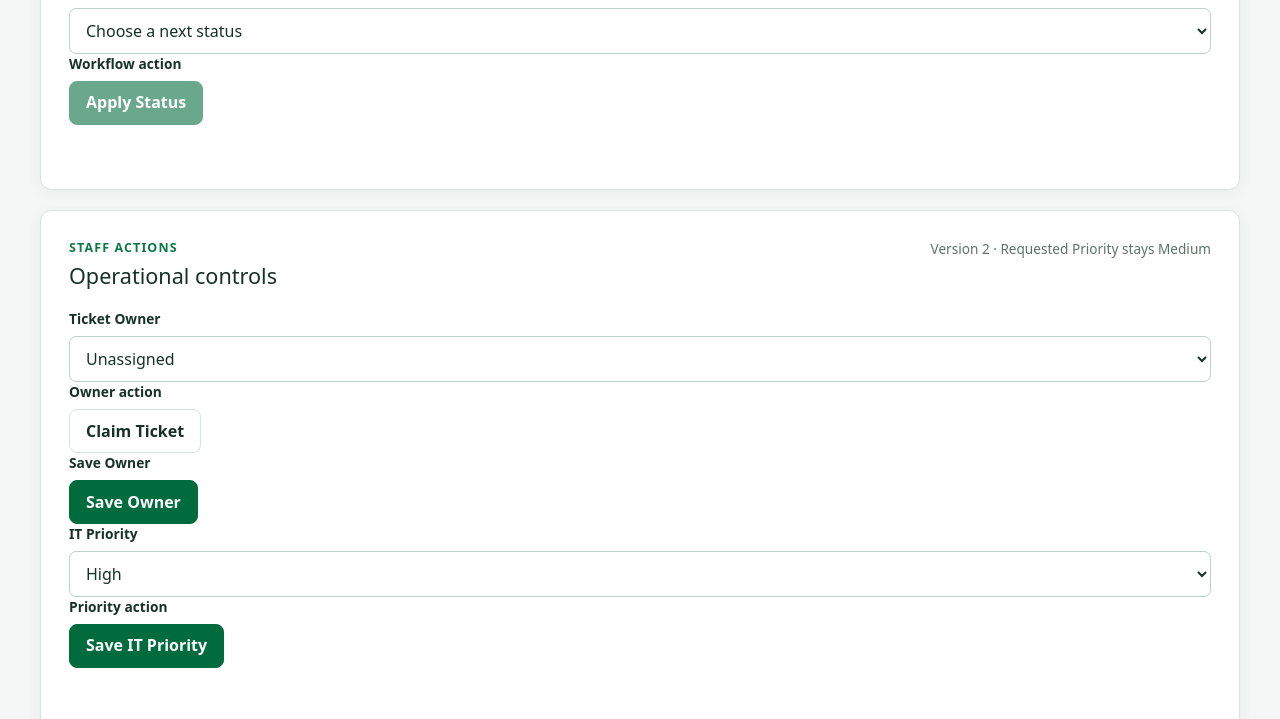
Scenario: Staff Ticket Detail page › lets IT Staff save Owner and IT Priority with the current version
(page scrolled)
Select "Jules IT Staff · IT Staff" in the dropdown labelled "Ticket Owner" at point(640, 359), box [69,336,1211,382]
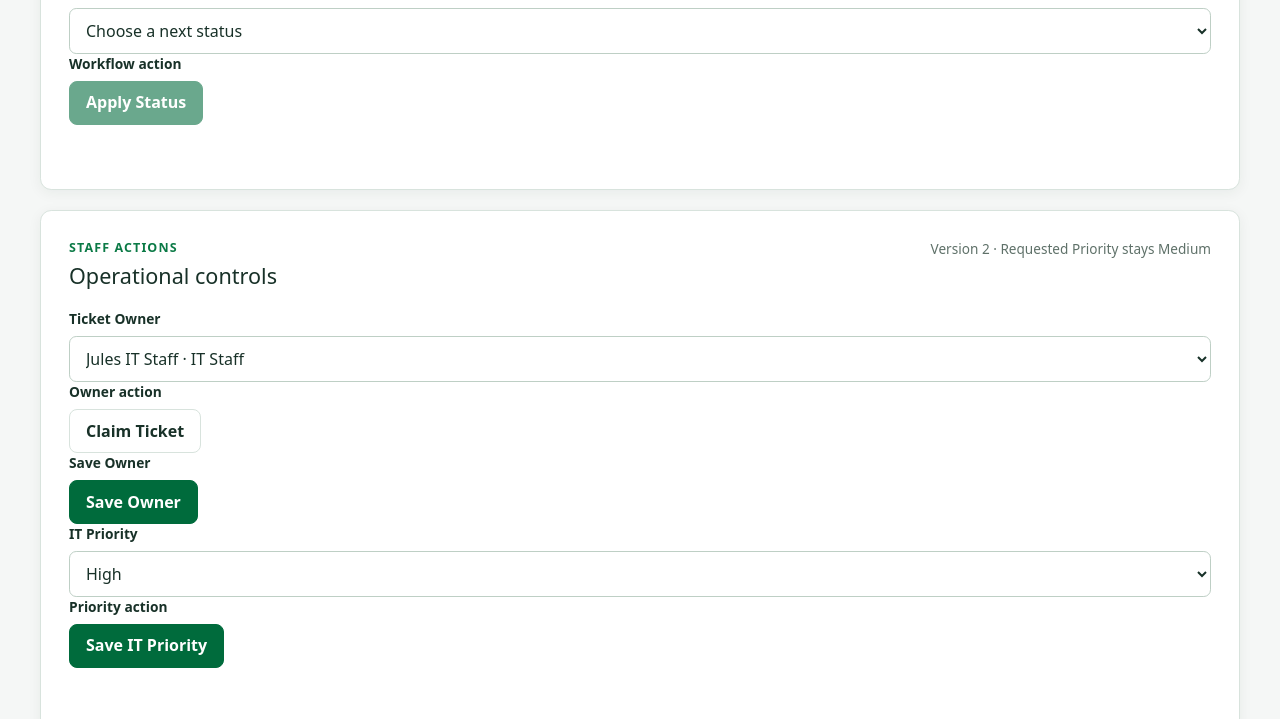
Click the button "Save Owner" at point(133, 502), box [69,480,198,524]
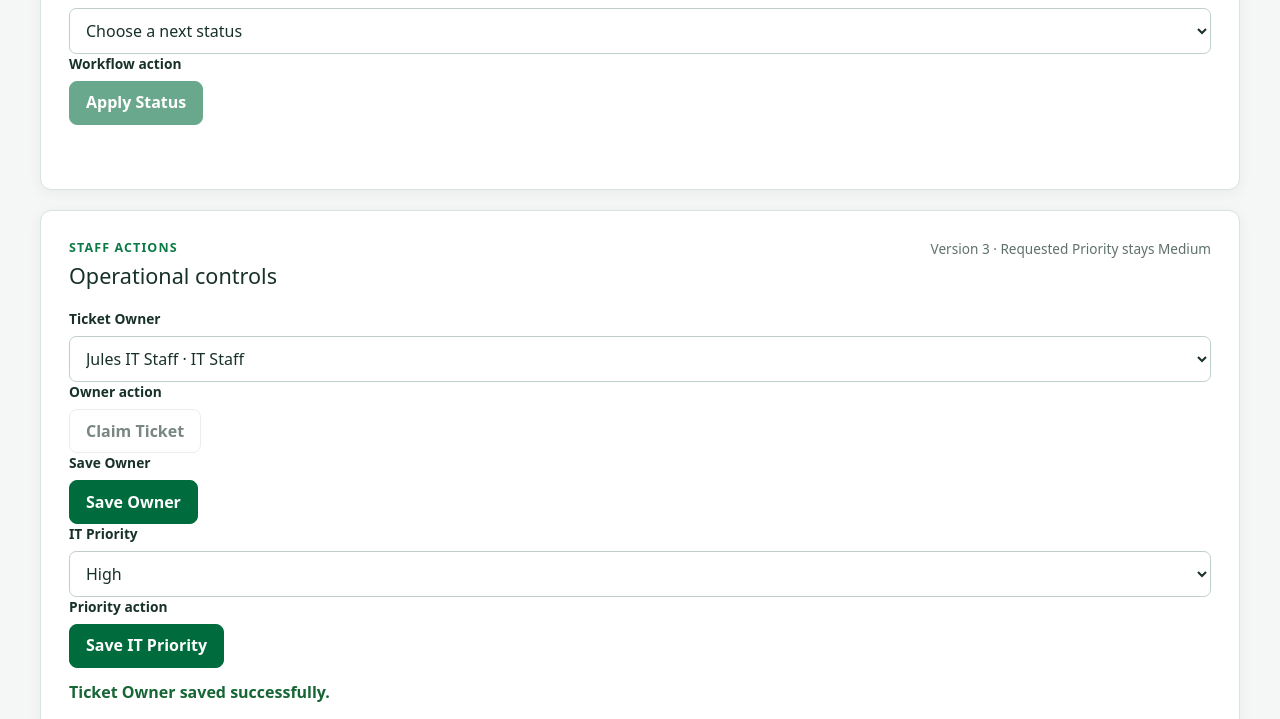
Select "Urgent" in the dropdown labelled "IT Priority" at point(640, 574), box [69,551,1211,597]
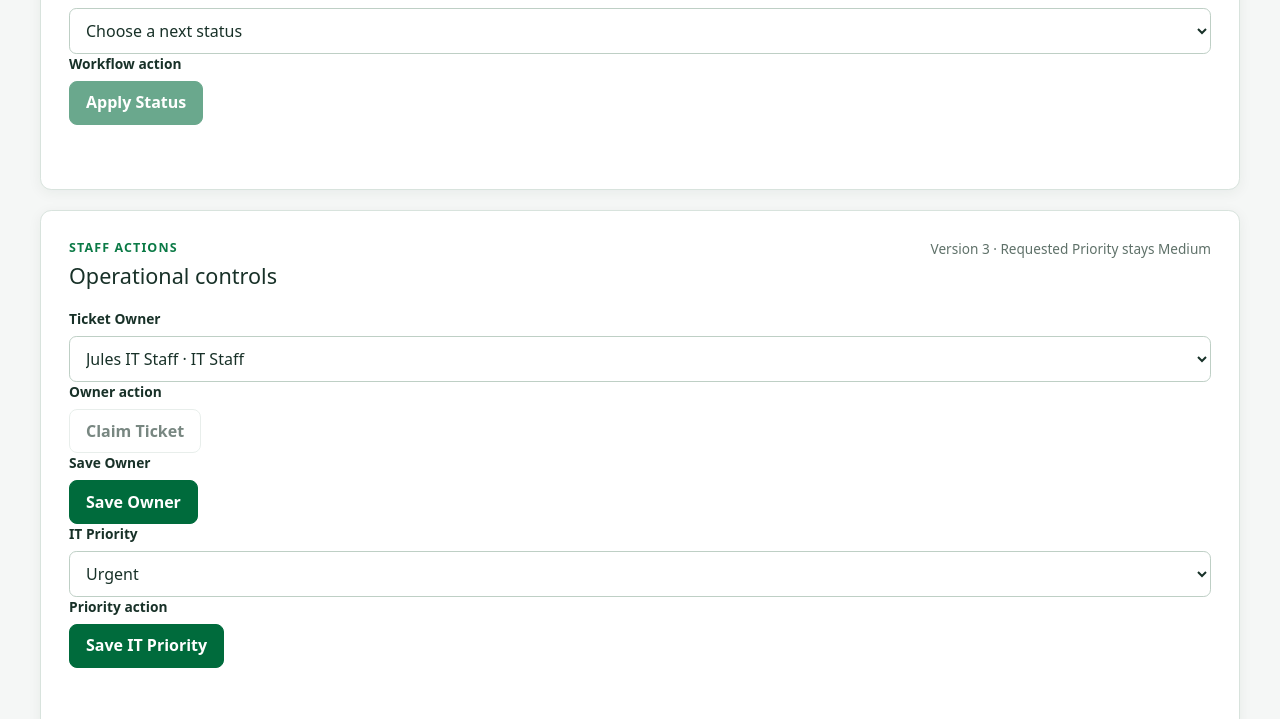
Click the button "Save IT Priority" at point(147, 646), box [69,624,224,668]
(page scrolled)
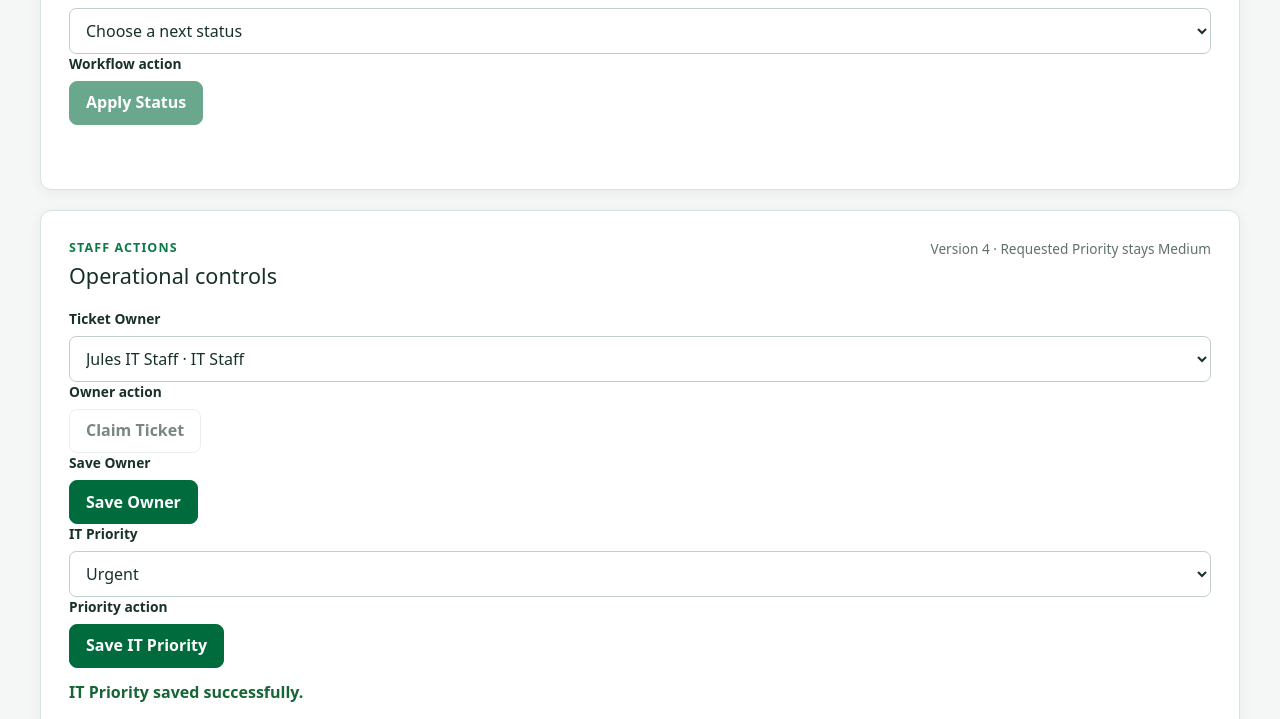
Now the text "IT Priority saved successfully." is shown, box [69,681,303,703]
